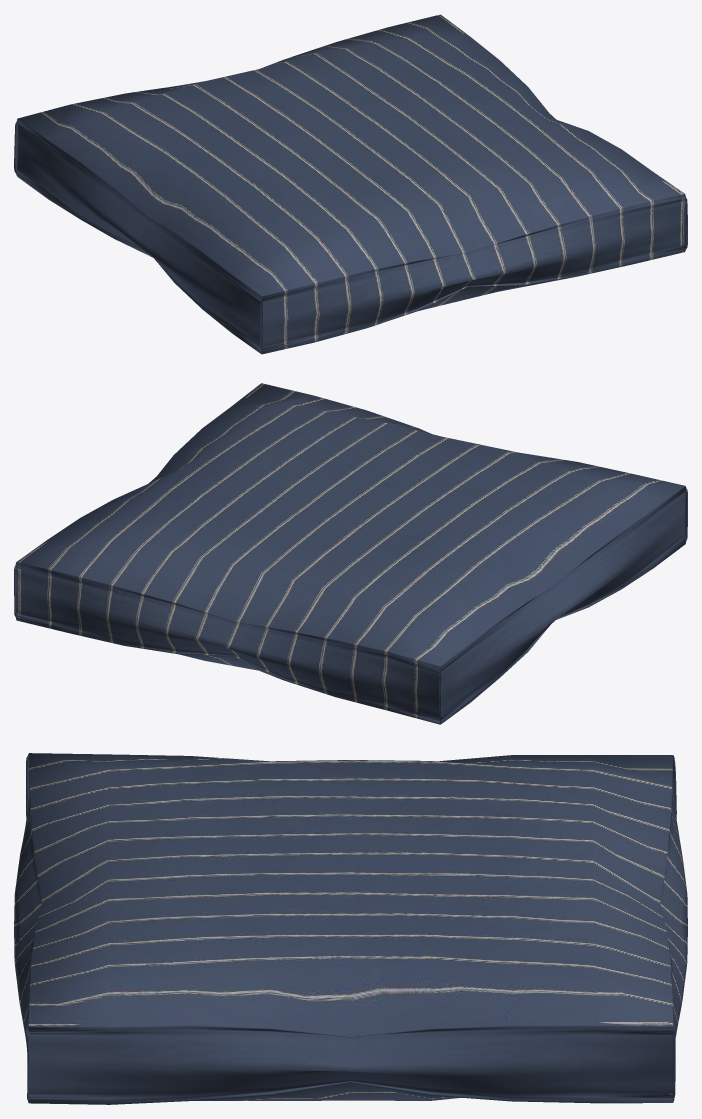
File: w51cushion.glb
3 renders of one model, top to bottom at view 1: azimuth 30°, elevation 25°; view 2: azimuth 150°, elevation 25°; view 3: azimuth 270°, elevation 25°, orthographic. The views are drawn at different scales.
Parts seen in each view (by area): view 1: cushion; view 2: cushion; view 3: cushion.
Boxes of the visible parts, bbox=[...] form: cushion: bbox=[14, 14, 687, 354]; cushion: bbox=[14, 383, 687, 724]; cushion: bbox=[14, 753, 687, 1104].
Size of the model in its own units: 0.5 by 0.1187 by 0.5001.
Materials: 1 (1 with a texture image).
